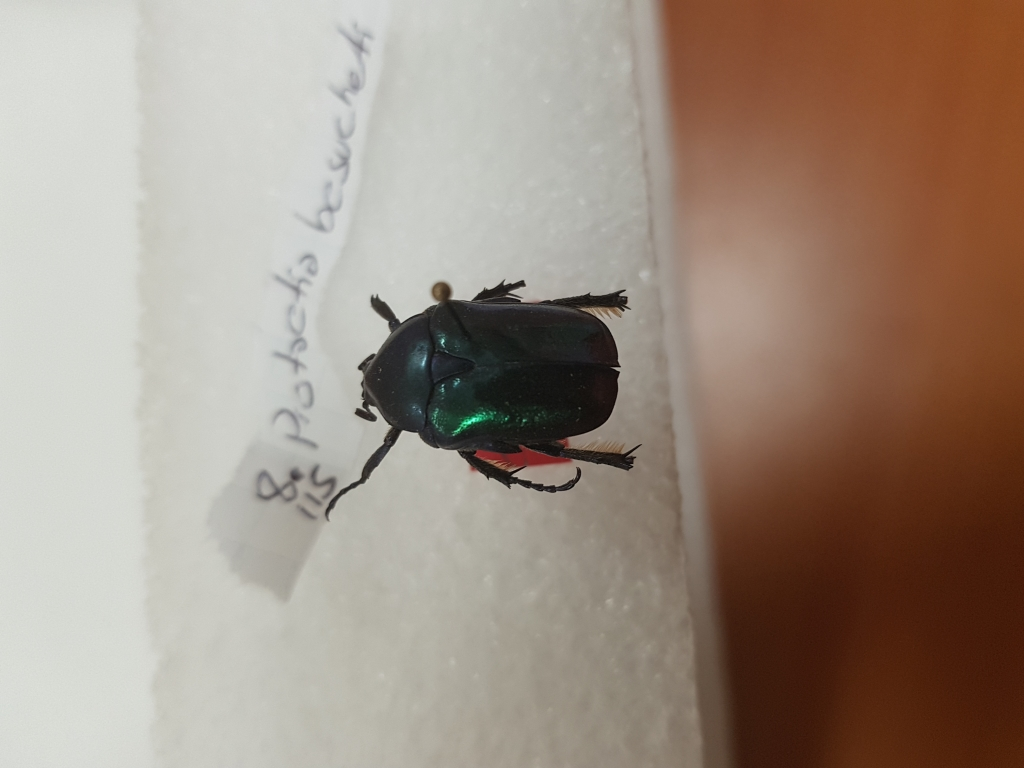Protaetia_besucheti: (312, 275, 656, 521)
